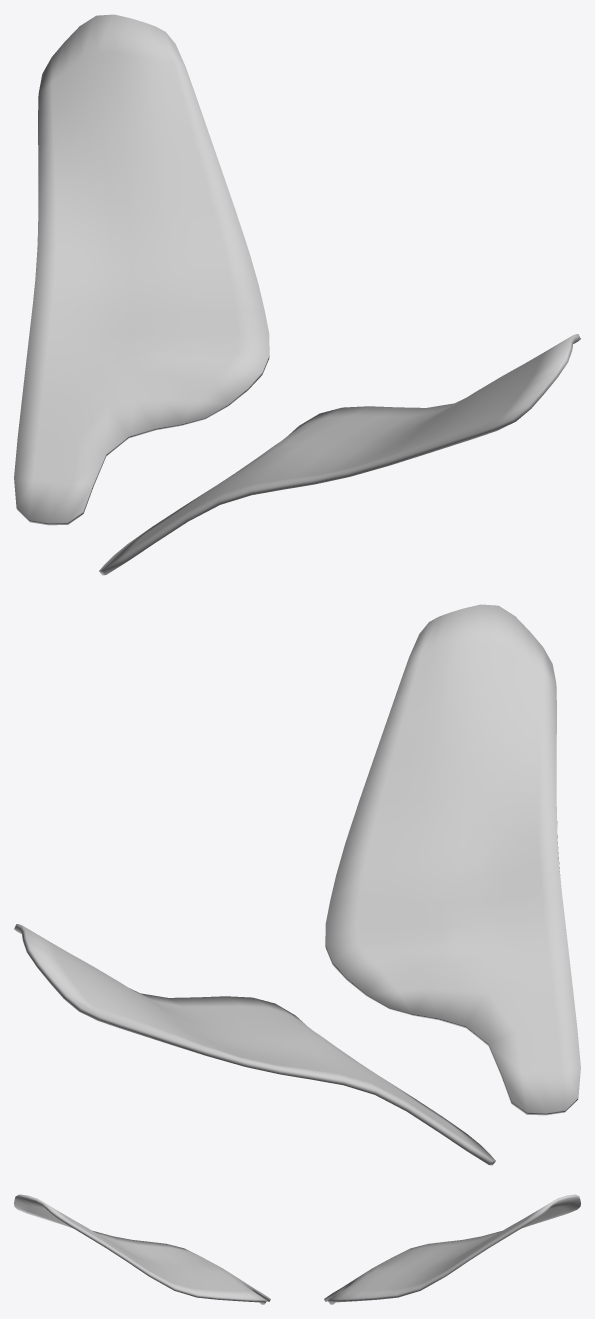
The model's file is Eagle Wings.fbx.
3 views of the same model, one above another, from view 1: azimuth 30°, elevation 25°; view 2: azimuth 150°, elevation 25°; view 3: azimuth 270°, elevation 25° (orthographic). The views are drawn at different scales.
Parts seen in each view (by area): view 1: Eagle Wings; view 2: Eagle Wings; view 3: Eagle Wings.
Boxes of the visible parts, x1,y1,x2,y2 form: Eagle Wings: (14,14,580,575); Eagle Wings: (14,604,580,1165); Eagle Wings: (14,1194,580,1304).
Bounding box in the file's own units: 2.67 × 6.96 × 2.43.
